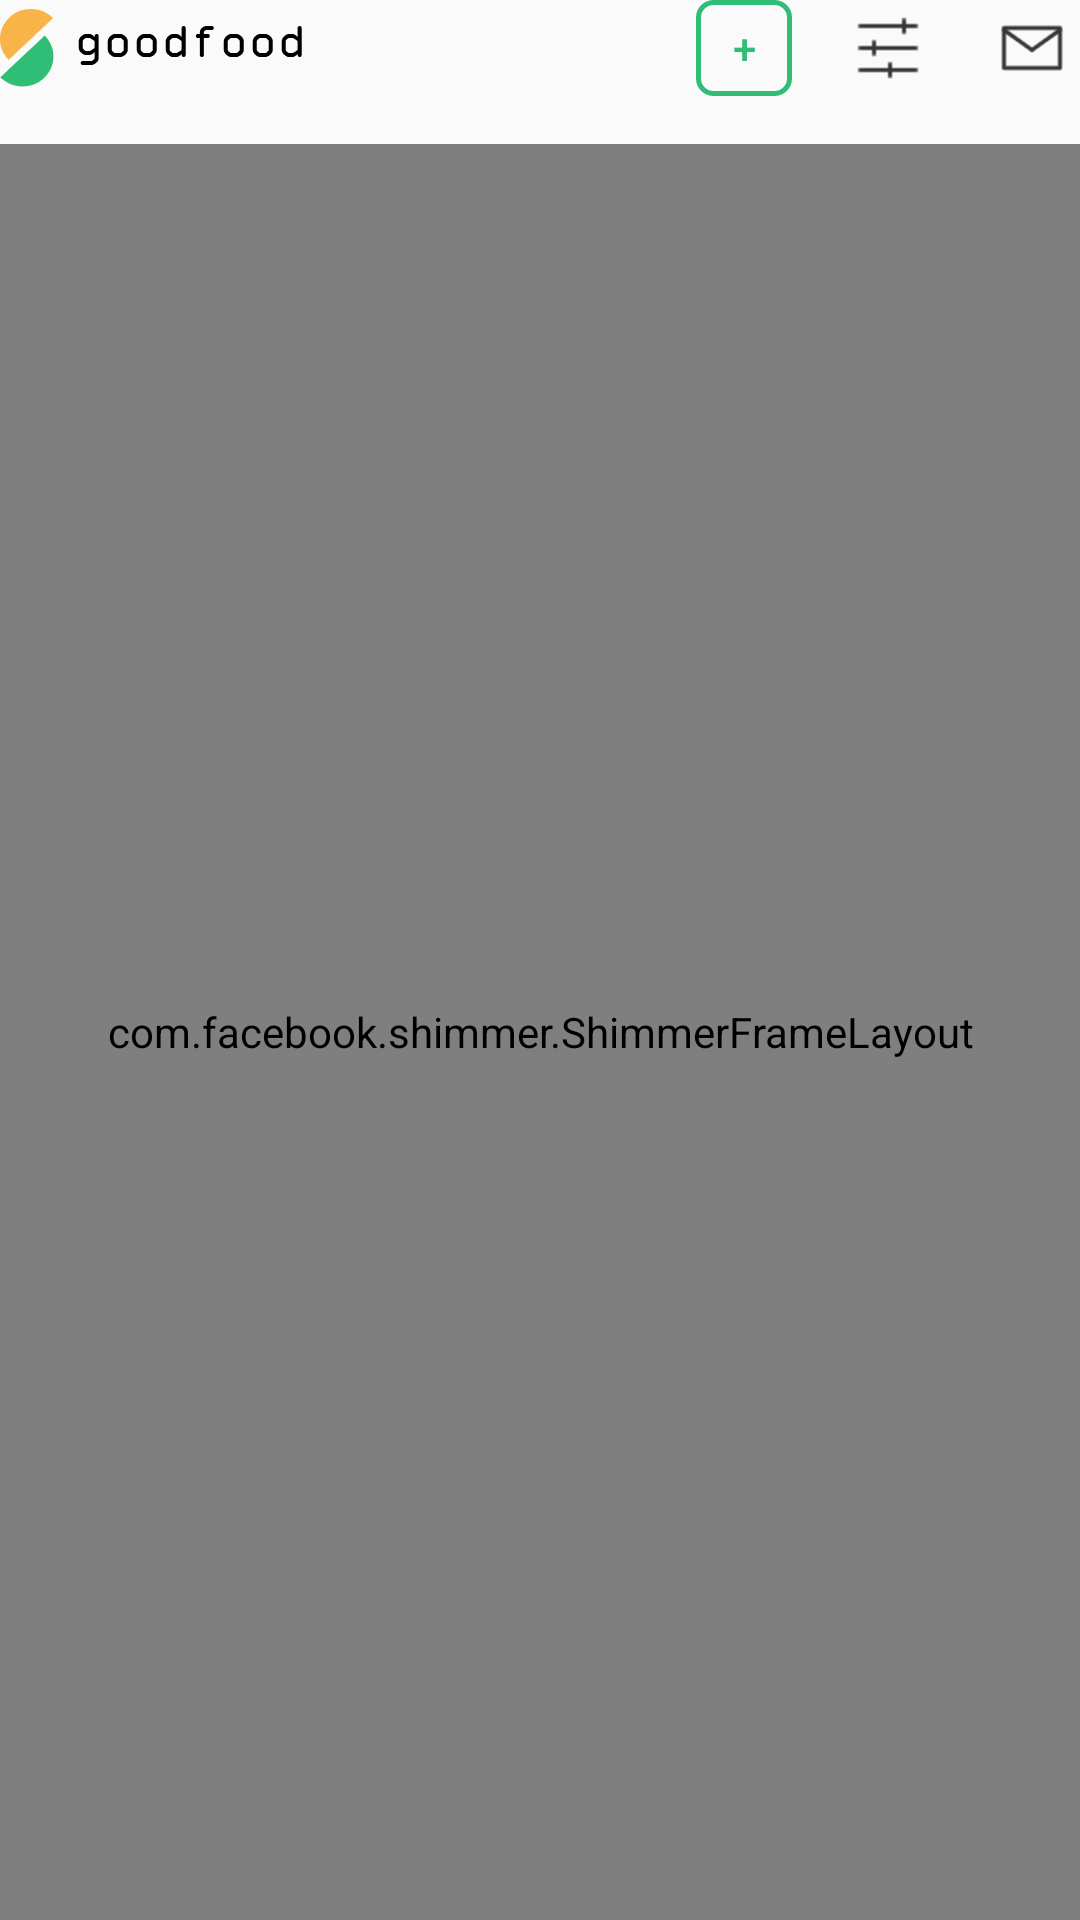

Point at icon controls on the screen. Image size 1080 x 1920, points as (x,y).
filter: (888,48)
messages: (1032,48)
